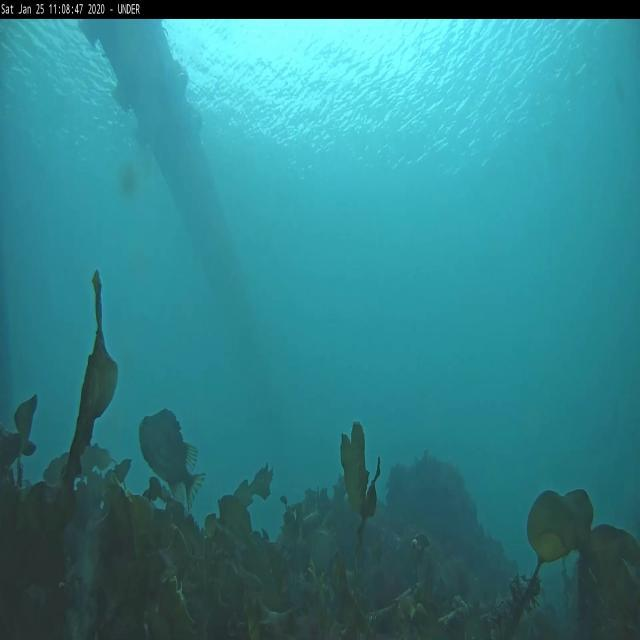fish: (140, 410, 208, 511)
